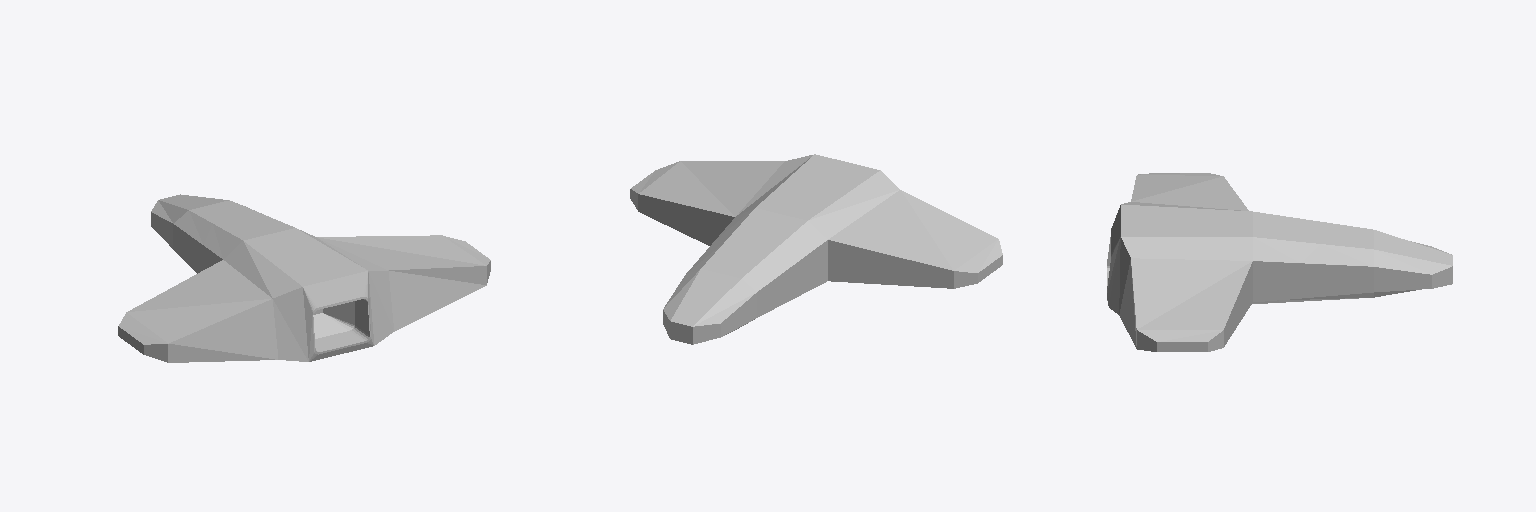
File: SpaceShip.obj
3 renders of one model, left to right at view 1: azimuth 30°, elevation 25°; view 2: azimuth 150°, elevation 25°; view 3: azimuth 270°, elevation 25°, orthographic.
Parts seen in each view (by area): view 1: Cube_Cube.001; view 2: Cube_Cube.001; view 3: Cube_Cube.001.
Boxes of the visible parts, <box> form: Cube_Cube.001: <box>118,194,490,362</box>; Cube_Cube.001: <box>630,154,1002,344</box>; Cube_Cube.001: <box>1107,173,1452,351</box>.
Bounding box in the file's own units: 12 × 2.34 × 10.37.